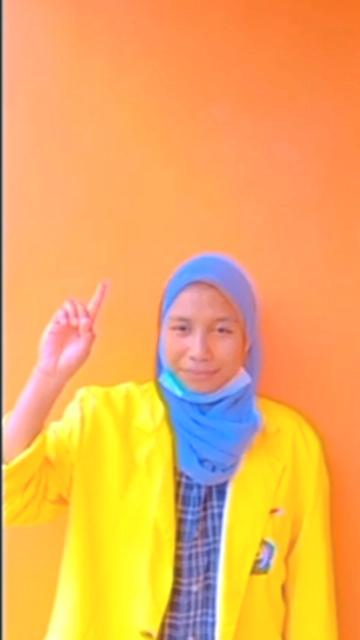D: (33, 279, 115, 386)
